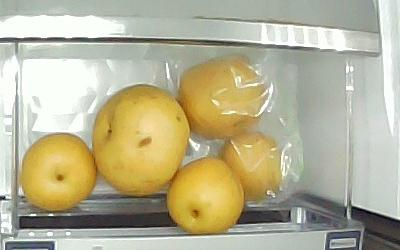pear: (94, 84, 190, 197), (168, 155, 244, 235), (22, 133, 96, 211)
pear_vinyl: (179, 55, 267, 142), (220, 132, 288, 203)
